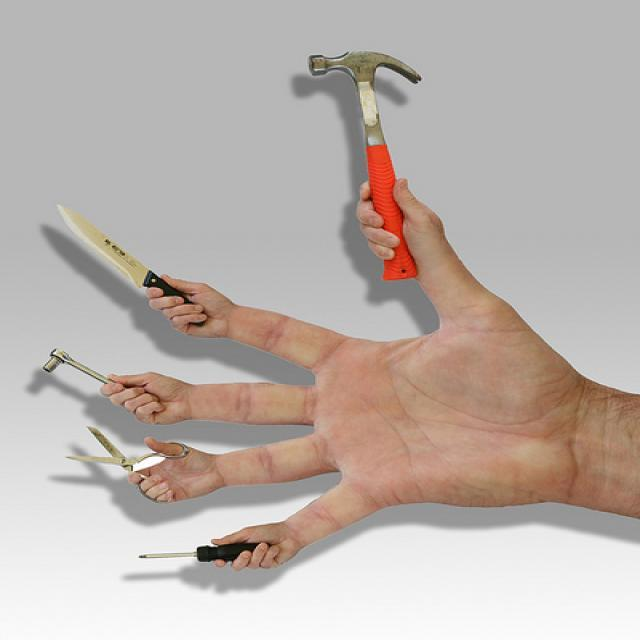hammer: (294, 42, 436, 288)
screwdriver: (131, 528, 299, 582)
